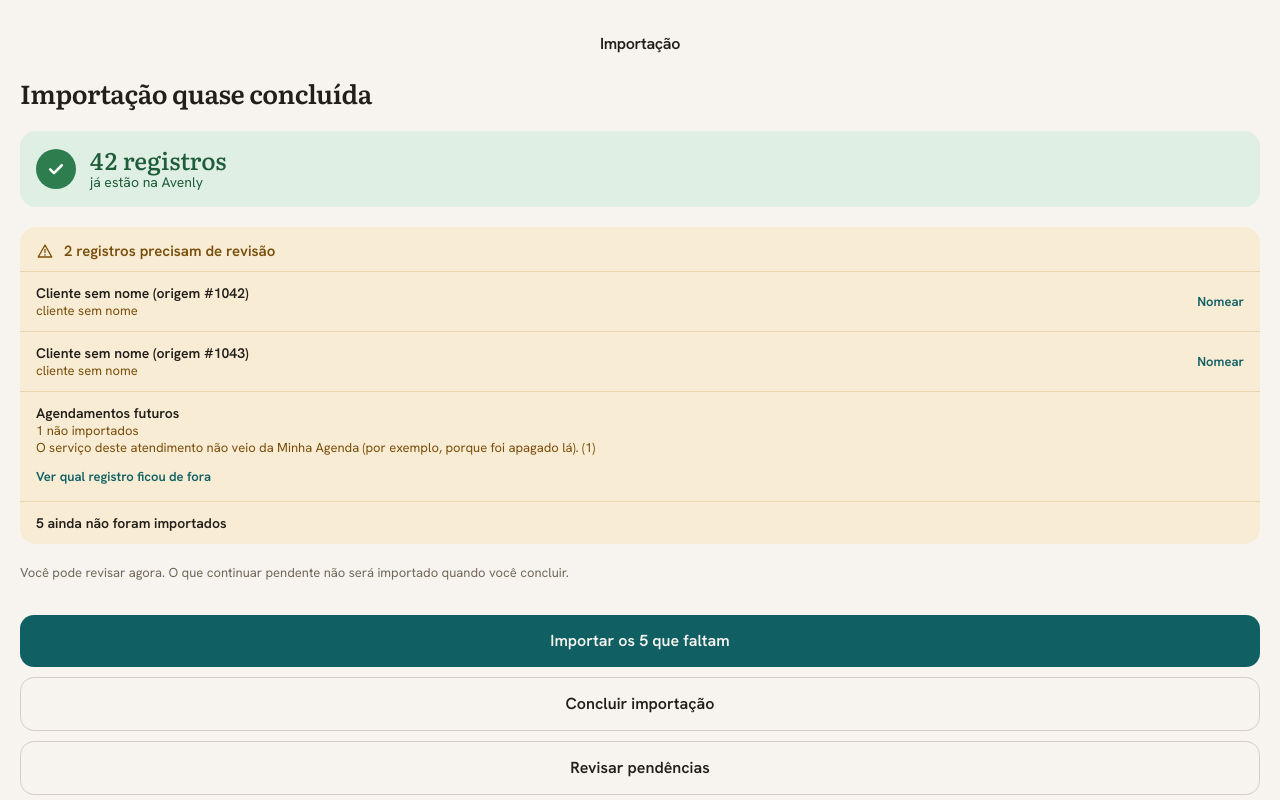
Test: concluir é definitivo › recusar a confirmação mantém a sessão como estava, sem concluir
This screenshot has width=1280, height=800.
Click the button "Concluir importação".
click(640, 704)  # box [20,677,1260,731]
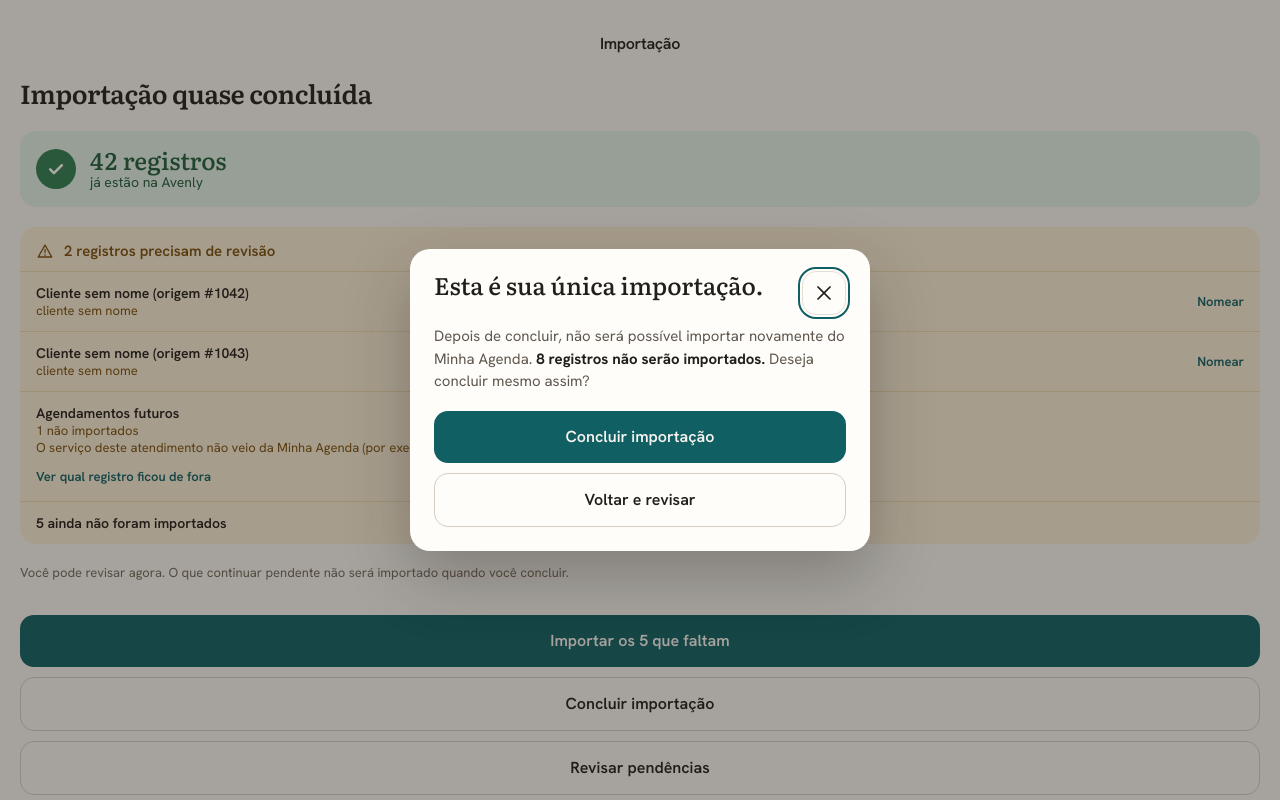
Click the button "Voltar e revisar".
click(640, 500)  # box [434,473,846,527]
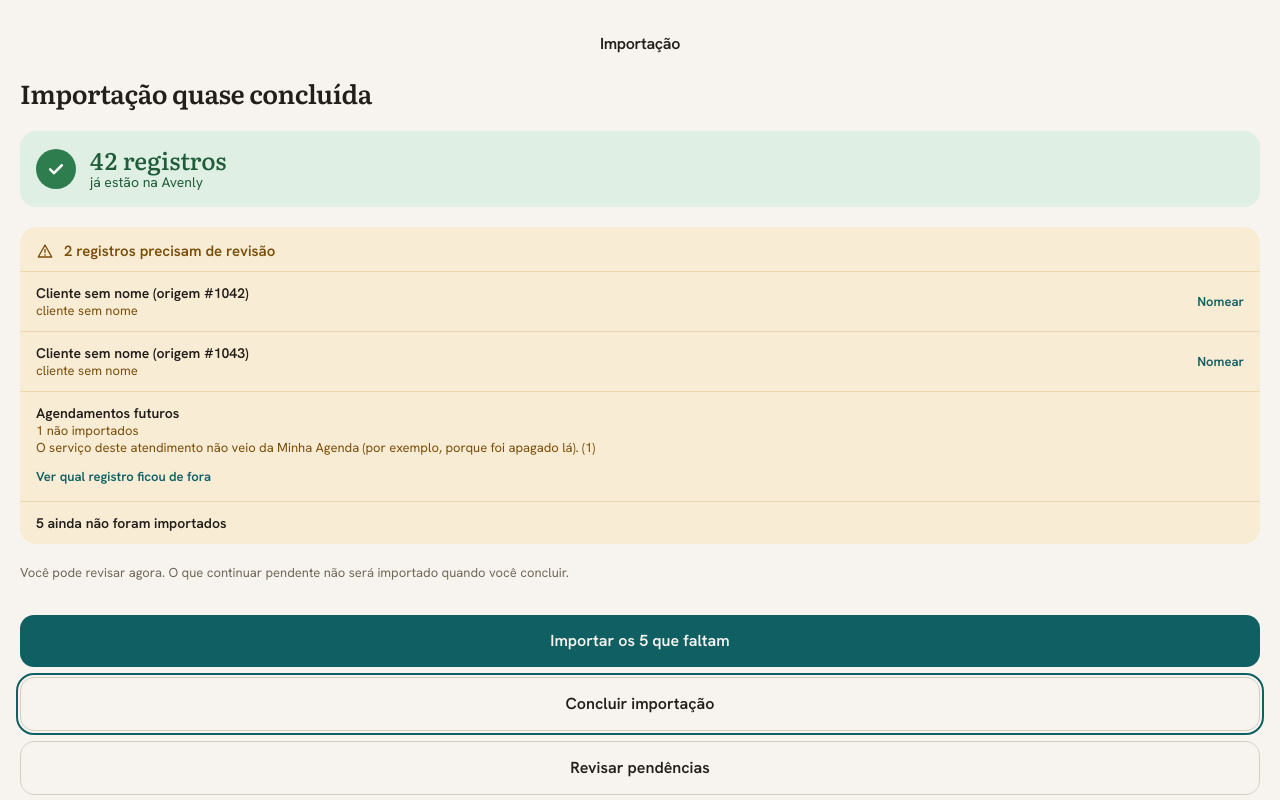
Expected: the heading "2 registros precisam de revisão" is shown, [64,241,275,261]
Expected: the dialog is gone
